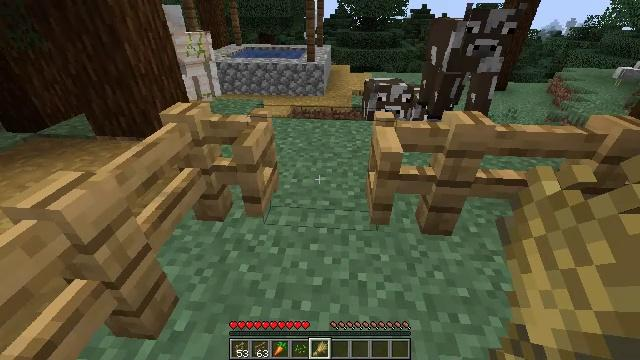chicken: (613, 60, 640, 86)
cow: (418, 7, 522, 121), (362, 75, 411, 123)
